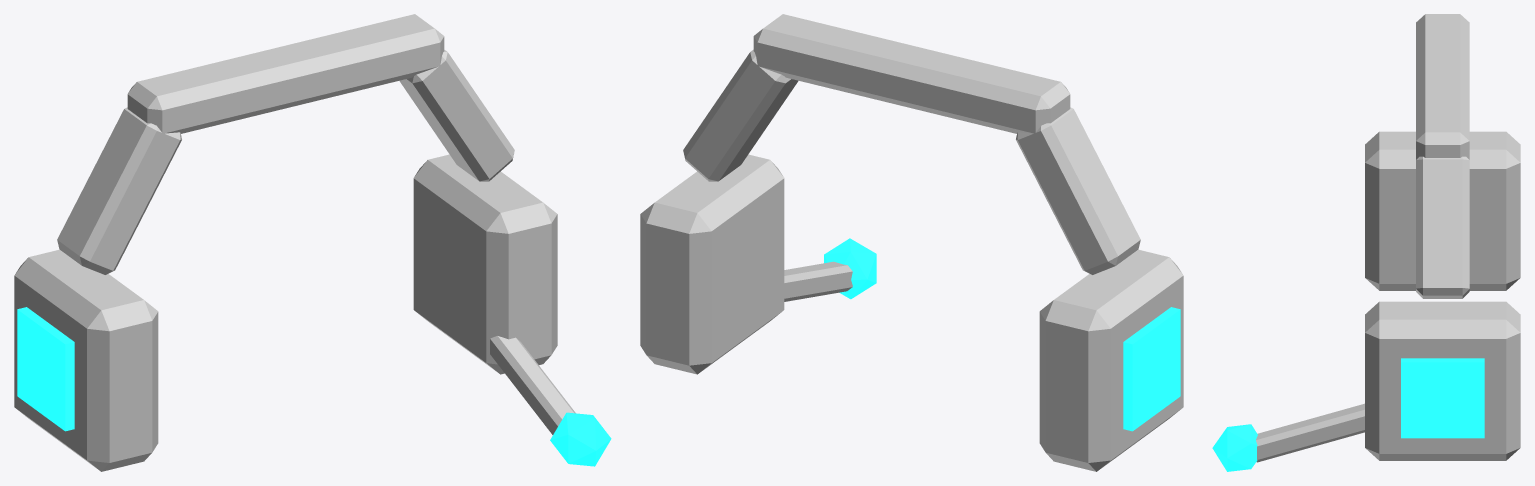
Rendered from gear.head.pilot_headset.glb.
The picture shows the model from 3 angles, left to right: view 1: azimuth 30°, elevation 25°; view 2: azimuth 150°, elevation 25°; view 3: azimuth 270°, elevation 25°; orthographic projection. The views are drawn at different scales.
Visible parts, largest first — view 1: head@pilot_headset.base, head@pilot_headset.emissive.cyan; view 2: head@pilot_headset.base, head@pilot_headset.emissive.cyan; view 3: head@pilot_headset.base, head@pilot_headset.emissive.cyan.
Part boxes in pixels (<box>): head@pilot_headset.base: <box>14,14,575,471</box>; head@pilot_headset.emissive.cyan: <box>17,307,611,466</box>; head@pilot_headset.base: <box>640,14,1183,471</box>; head@pilot_headset.emissive.cyan: <box>824,238,1180,431</box>; head@pilot_headset.base: <box>1256,14,1520,462</box>; head@pilot_headset.emissive.cyan: <box>1212,358,1484,471</box>.
Bounding box in the file's own units: 0.412 × 0.2946 × 0.2575.
